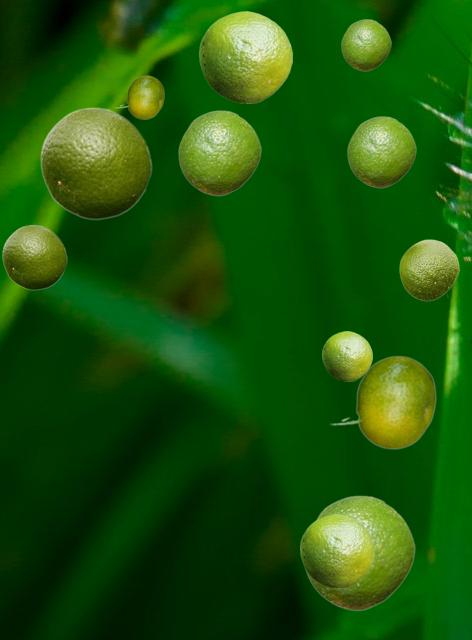calamansi: (40, 106, 151, 219), (305, 495, 414, 610), (329, 355, 435, 448), (199, 11, 291, 102), (178, 110, 260, 195), (300, 514, 373, 587), (347, 116, 415, 187), (2, 224, 66, 289), (399, 239, 458, 300), (341, 19, 390, 70), (322, 331, 371, 380), (114, 75, 163, 118)
